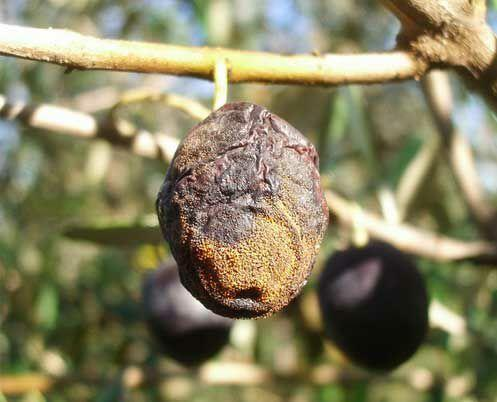Anthracnose: (154, 100, 334, 324)
